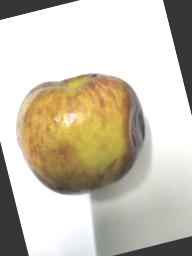Apple Overripe: (2, 55, 160, 210)
